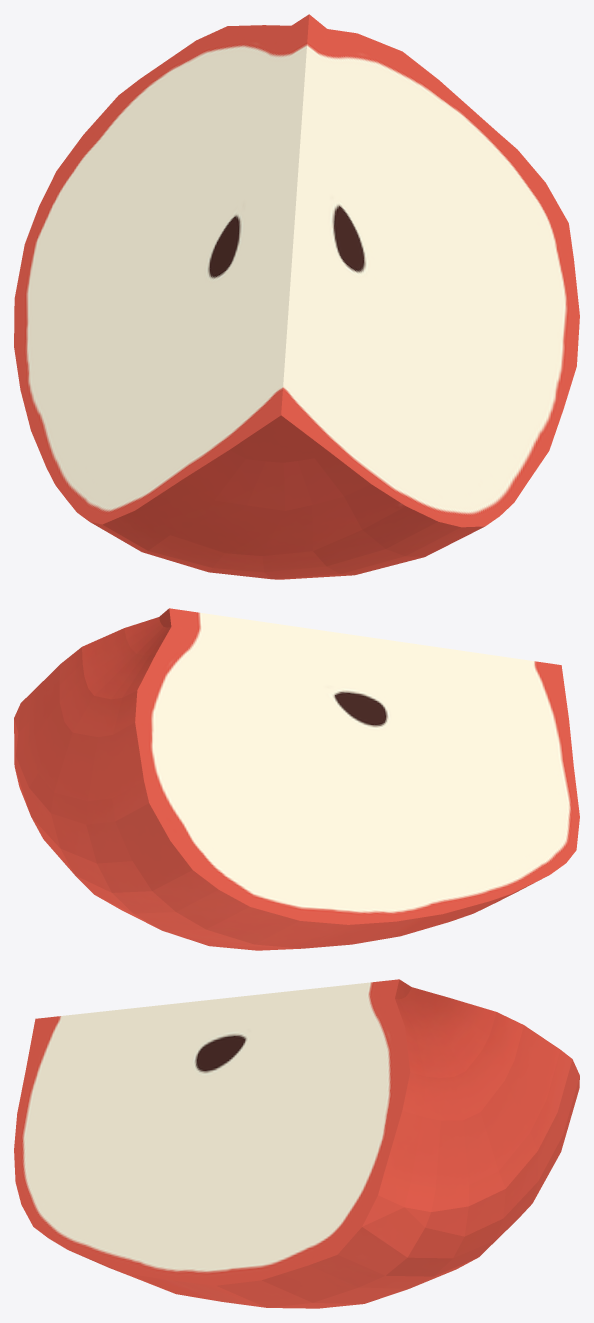
Rendered from Apple.glb.
3 views of the same model, one above another, from view 1: azimuth 30°, elevation 25°; view 2: azimuth 150°, elevation 25°; view 3: azimuth 270°, elevation 25° (orthographic). The views are drawn at different scales.
Parts seen in each view (by area): view 1: Apple; view 2: Apple; view 3: Apple.
Boxes of the visible parts, left/top/right/bottom form: Apple: left=14, top=14, right=579, bottom=579; Apple: left=14, top=608, right=579, bottom=950; Apple: left=14, top=979, right=579, bottom=1308.
Size of the model in its own units: 78.24 by 54.38 by 83.03.
2 materials, 2 textured.
